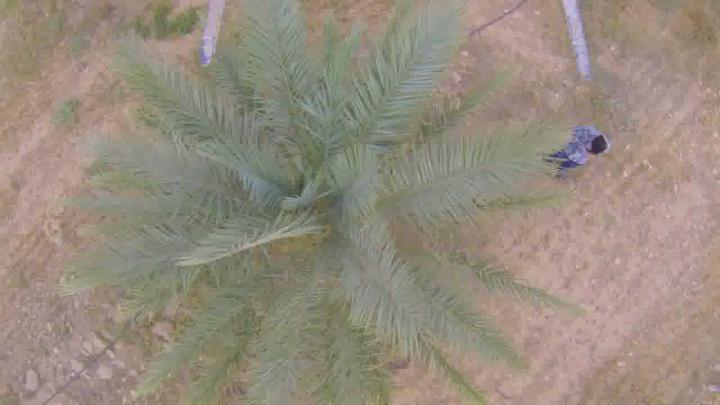Date-Palm-Crown: (171, 81, 469, 345)
